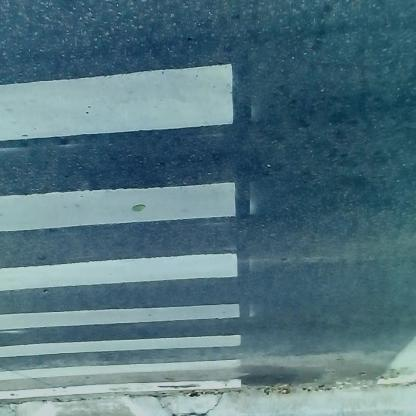crosswalk: (1, 48, 250, 390)
